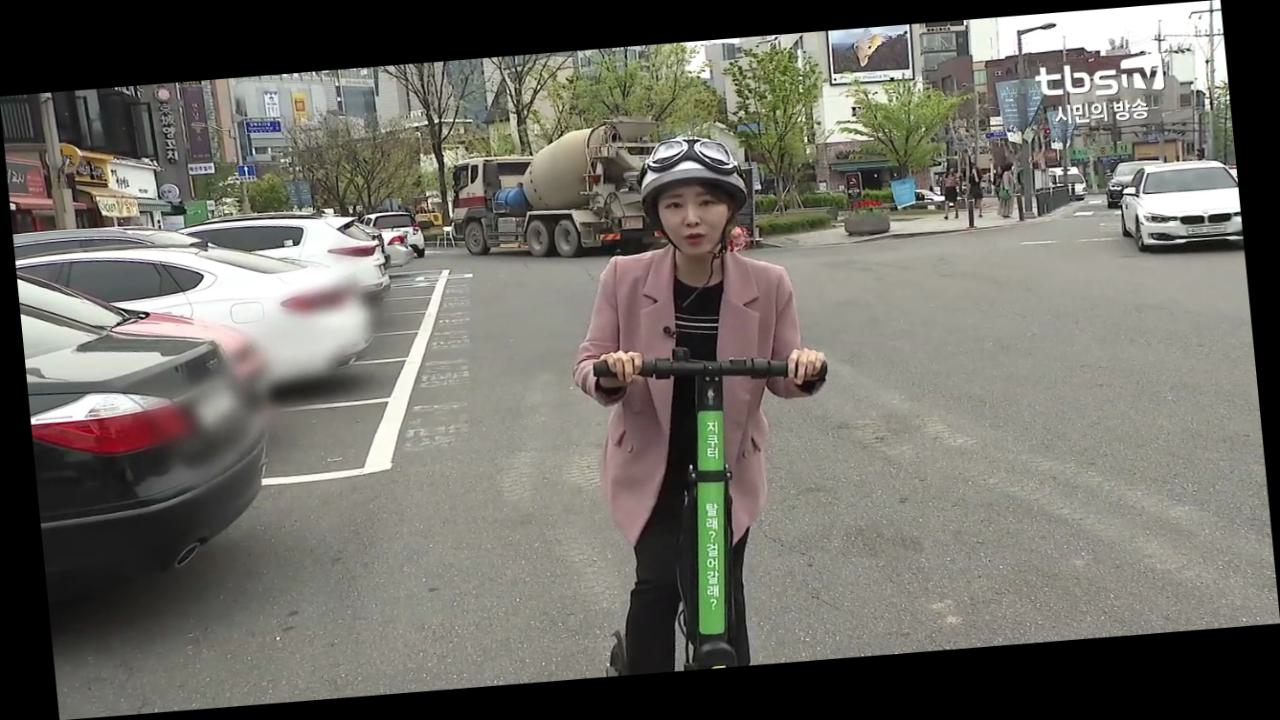helmet: (545, 125, 864, 678)
